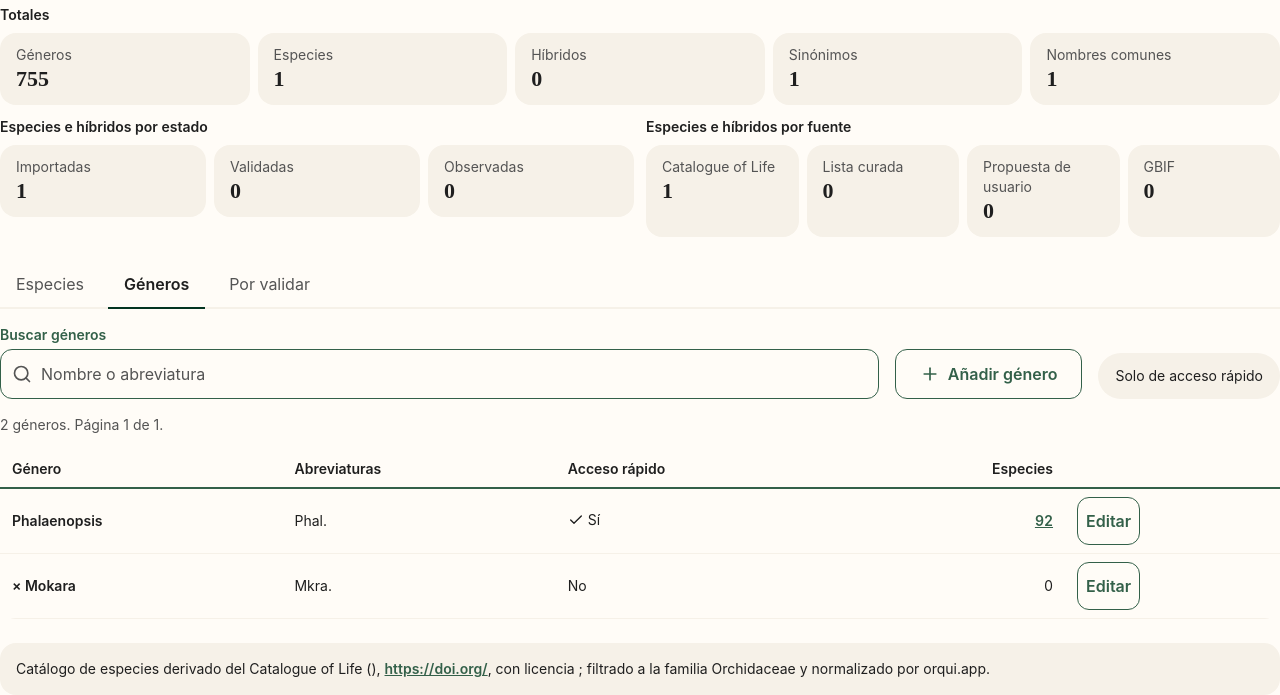
Test case: Backoffice: géneros y abreviaturas › si la base dice que hay plantas con el género, lo explica en el diálogo
(page scrolled)
Click the button "Editar" in the row of "× Mokara": coordinates (1109, 586) 1077,562 -> 1140,610
(page scrolled)
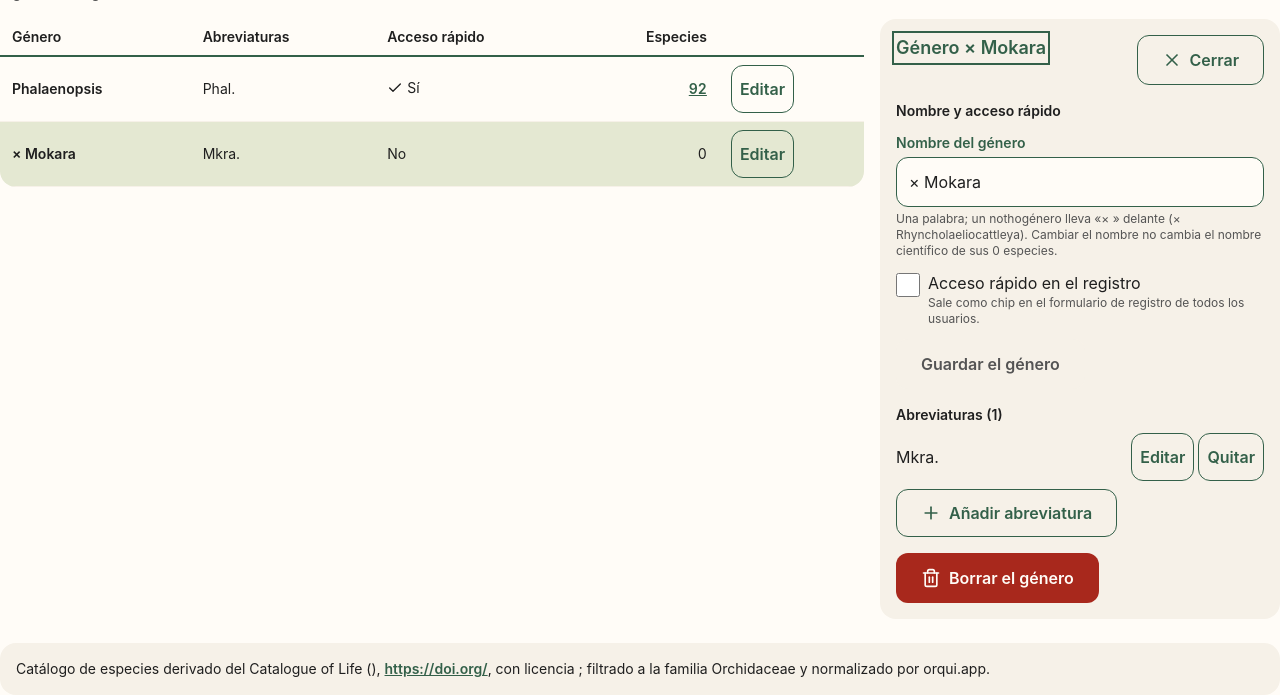
Click the button "Borrar el género": coordinates (997, 578) 896,553 -> 1099,603
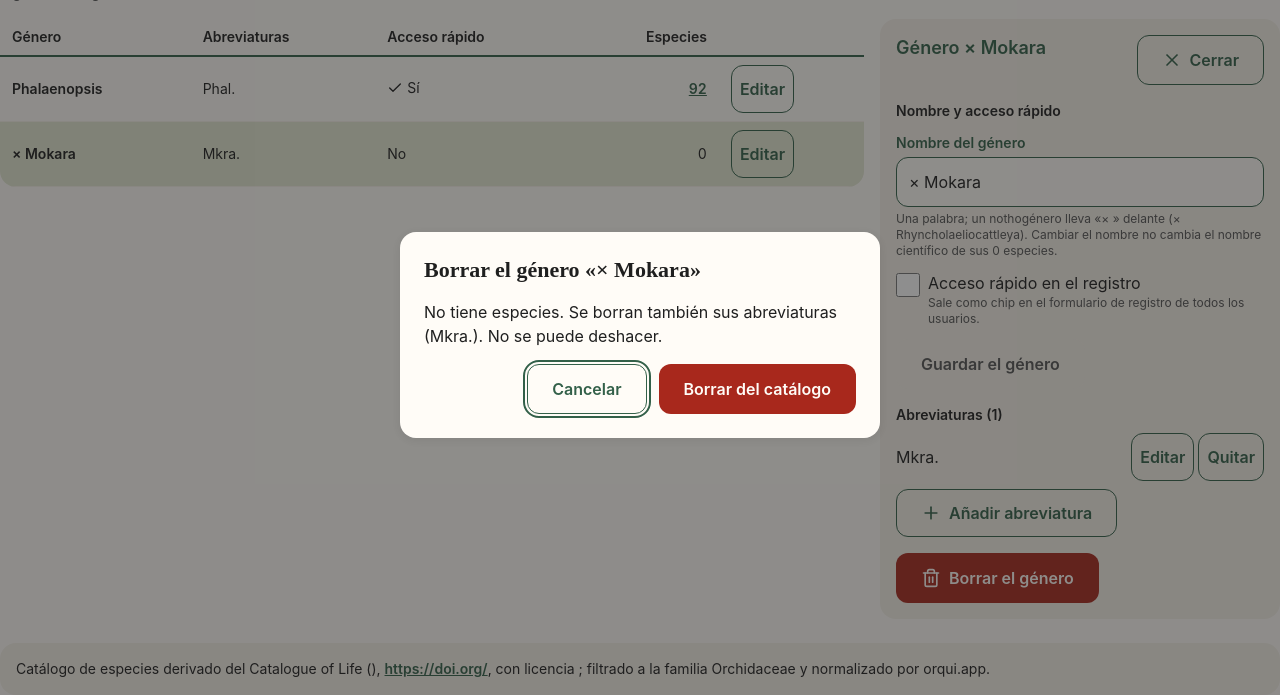
Click the button "Borrar del catálogo": coordinates (757, 389) 658,364 -> 856,414
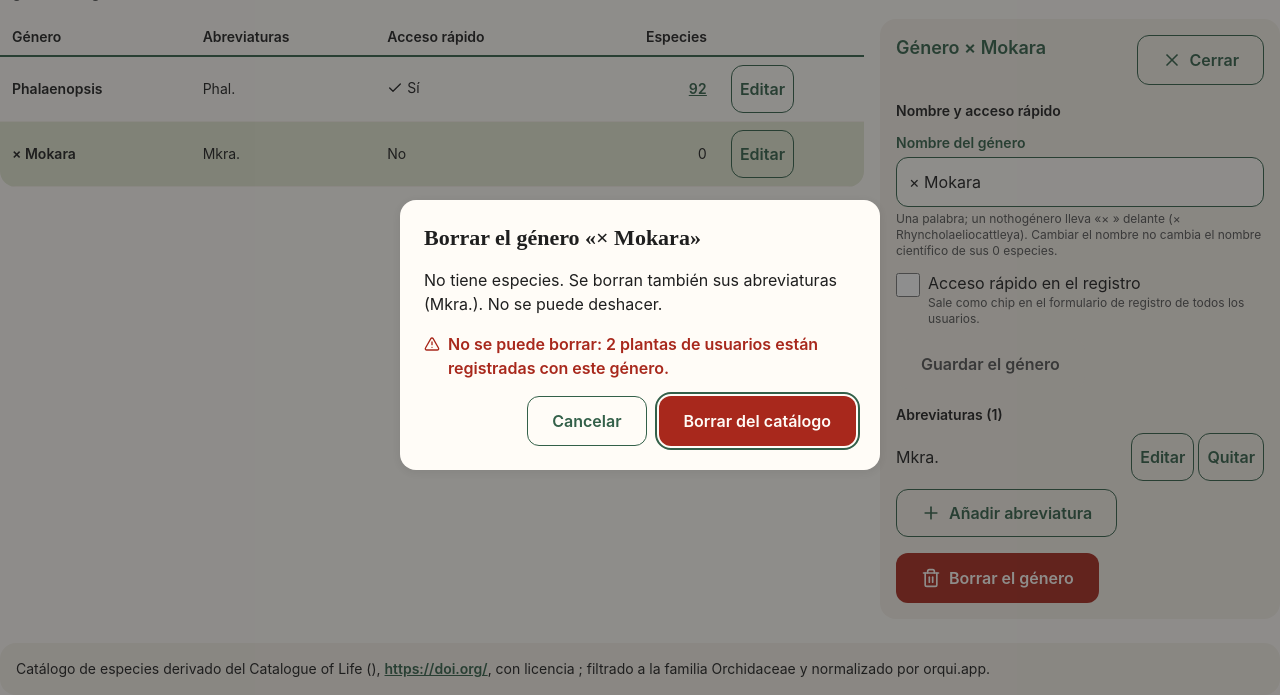
Expected: the message reads "No se puede borrar: 2 plantas de usuarios están registradas con este género.", 448,334 -> 818,378
